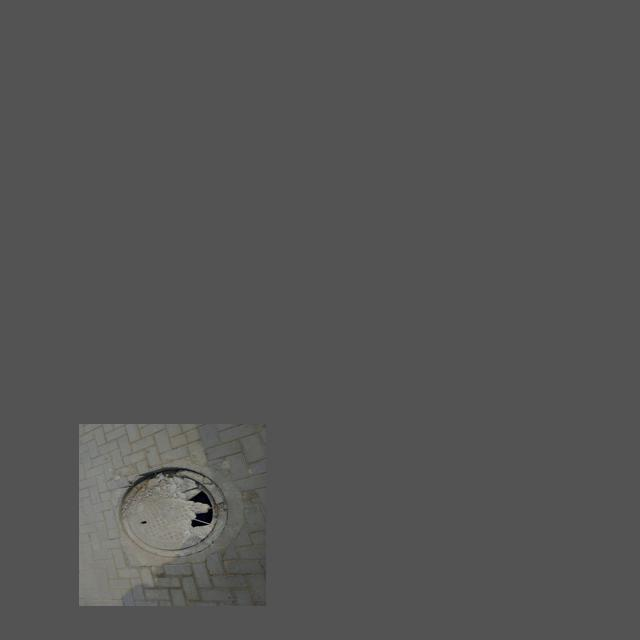broke: (119, 460, 233, 566)
